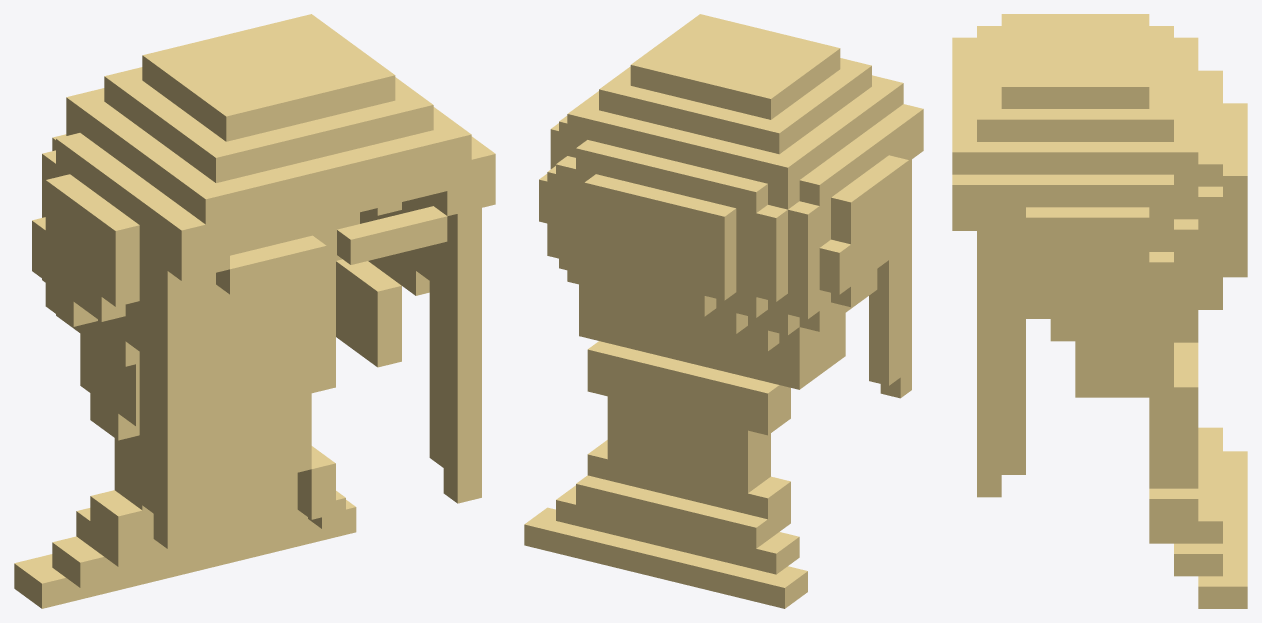
The model's file is Union_20.fbx.
3 renders of one model, left to right at view 1: azimuth 30°, elevation 25°; view 2: azimuth 150°, elevation 25°; view 3: azimuth 270°, elevation 25°, orthographic. The views are drawn at different scales.
Visible parts, largest first — view 1: Union_20; view 2: Union_20; view 3: Union_20.
Boxes of the visible parts, x1,y1,x2,y2 form: Union_20: (14,14,495,608); Union_20: (524,14,923,608); Union_20: (952,14,1247,608).
Bounding box in the file's own units: 15 × 22 × 12.
1 material, 1 textured.
